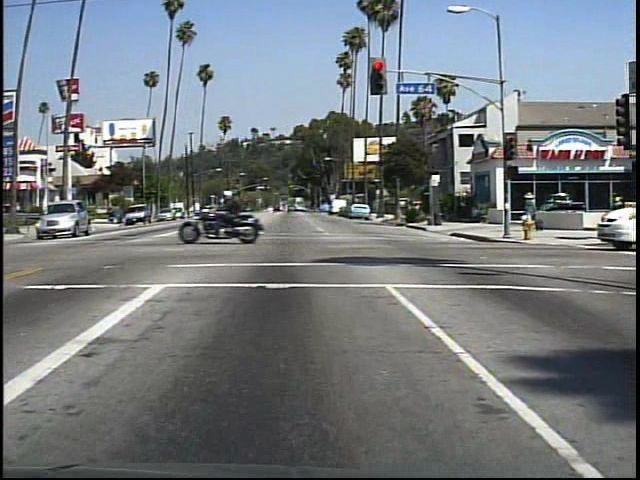person: (221, 185, 258, 241), (518, 186, 544, 217)
